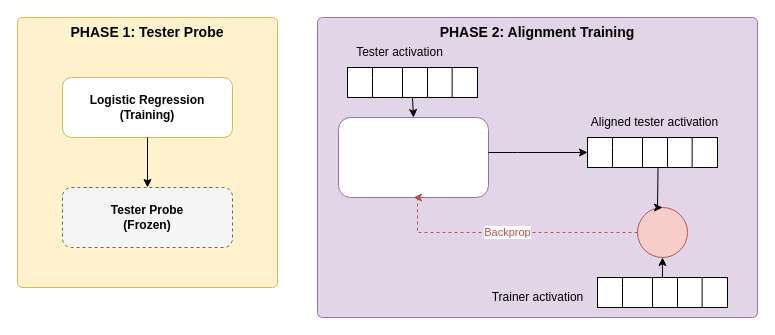
Image size: 775x335. Some labels were removed from this diagram. The centre of each missing label's shape, as x and y in pixels:
"Alignment Network" belongs at (x=413, y=157).
"Loss" belongs at (x=662, y=232).
